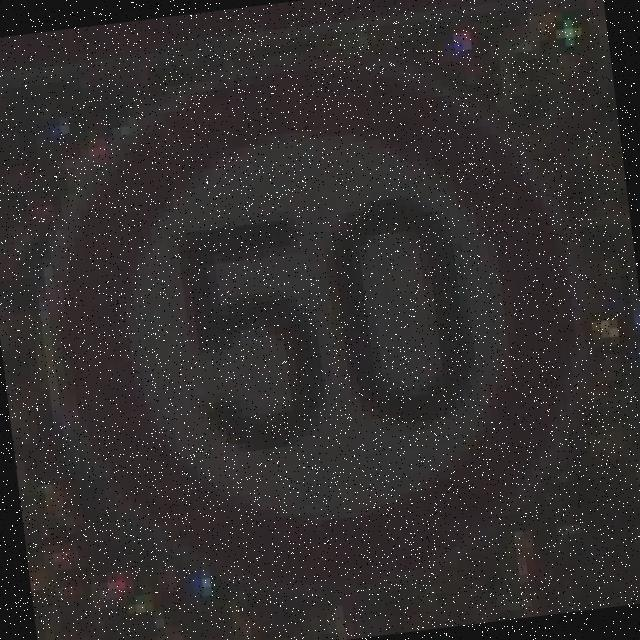Ograniczenie predkosci do 50: (24, 34, 613, 620)
